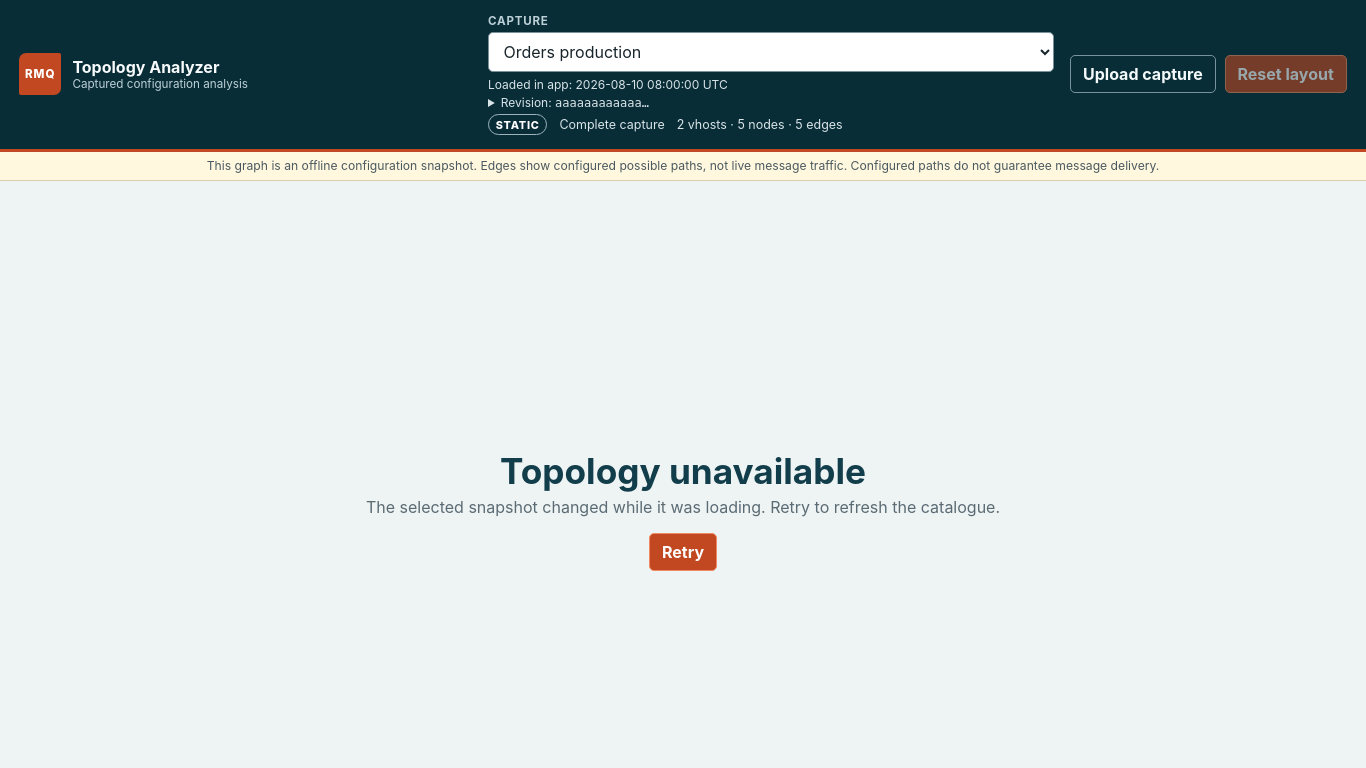
Test: retrying a changed snapshot in App › uses the established empty state when the selected identity was removed
What coordinates should you click on to do the following:
click the button "Retry"
I would click on:
 (683, 552)
Its box is [649,533,717,571].
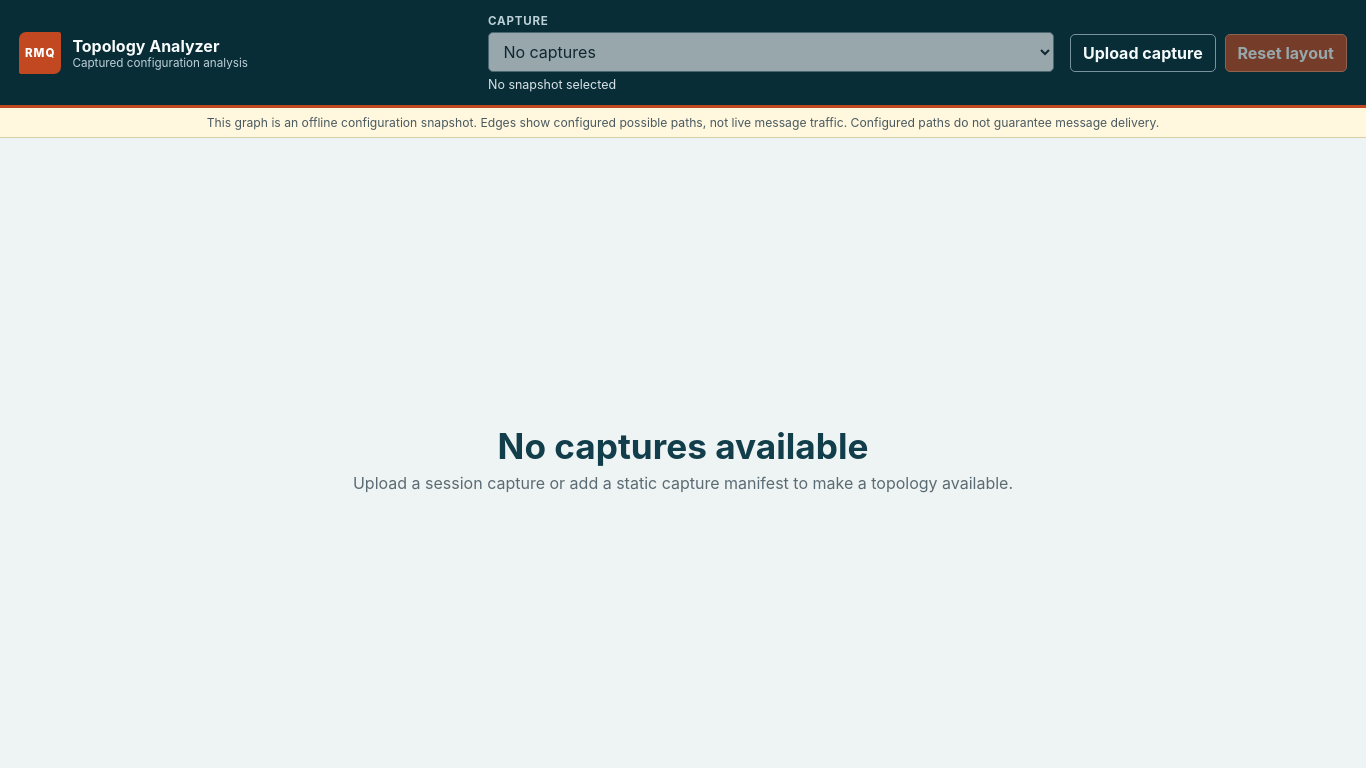
Check: the button "Upload capture" is enabled, box [1070,34,1216,72]
Check: the heading "No captures available" is shown, box [498,425,868,467]
